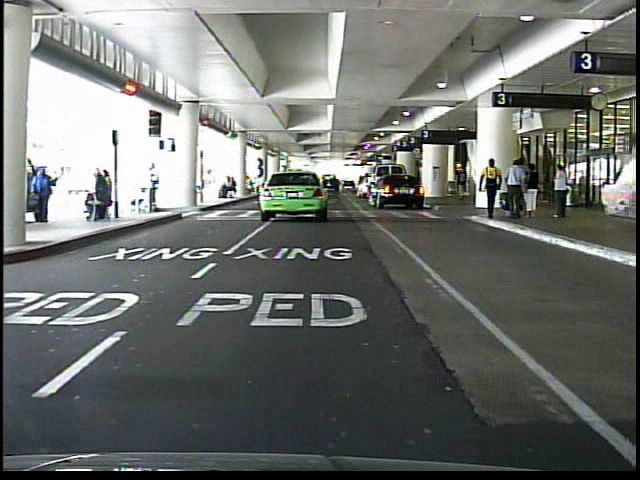person: (549, 160, 578, 228), (33, 161, 64, 224), (477, 153, 501, 224), (517, 151, 538, 227), (139, 162, 166, 220), (524, 160, 540, 220), (453, 162, 473, 206)
